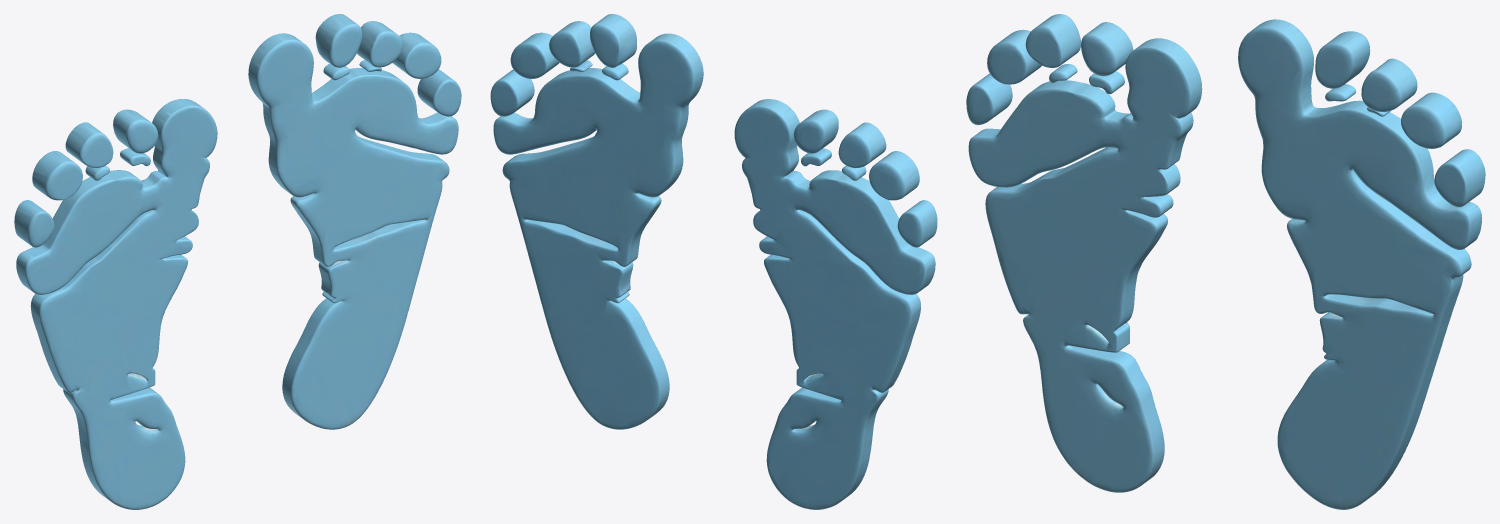
3 renders of one model, left to right at view 1: azimuth 30°, elevation 25°; view 2: azimuth 150°, elevation 25°; view 3: azimuth 330°, elevation 25°, orthographic. The views are drawn at different scales.
Size of the model in its own units: 1.9 by 1.83 by 0.1325.
1 material, 1 textured.
